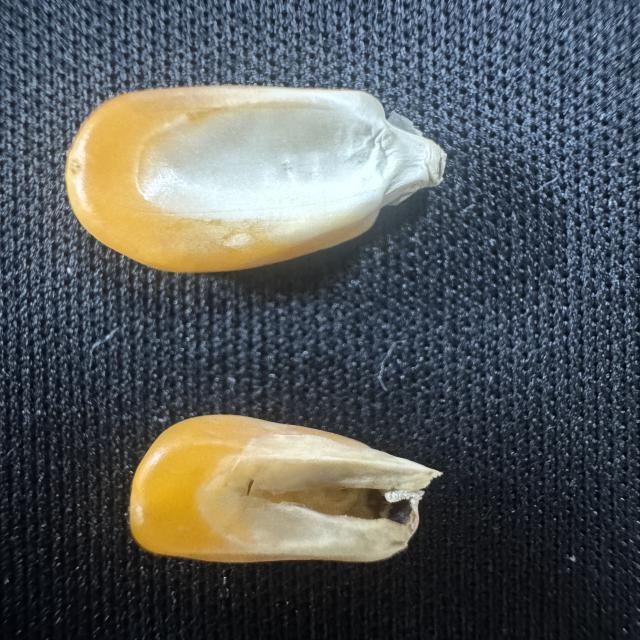Bad-Seed: (119, 400, 445, 570)
Good-Seed: (56, 80, 457, 278)
